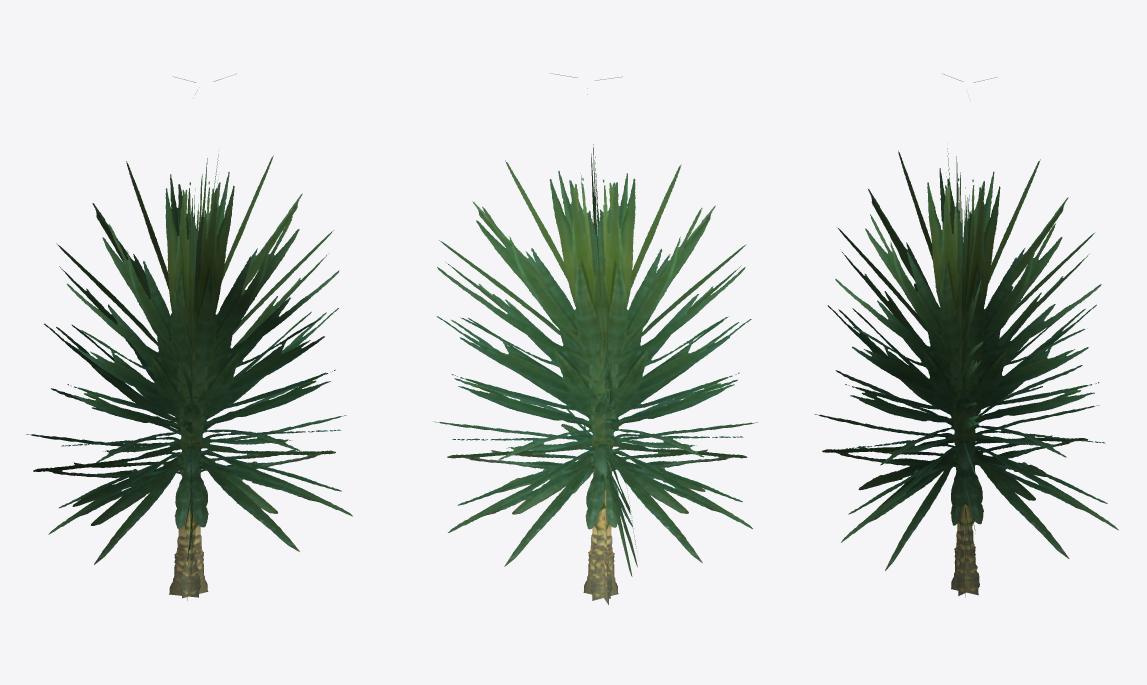
The model's file is obj__yuca.obj.
The picture shows the model from 3 angles, left to right: view 1: azimuth 30°, elevation 25°; view 2: azimuth 150°, elevation 25°; view 3: azimuth 270°, elevation 25°; orthographic projection.
Parts seen in each view (by area): view 1: yuca.tga; view 2: yuca.tga; view 3: yuca.tga.
Boxes of the visible parts, x1,y1,x2,y2 form: yuca.tga: (26,73,352,600); yuca.tga: (434,73,757,604); yuca.tga: (814,73,1118,597).
Size of the model in its own units: 111 by 156 by 88.65.
Materials: 1 (1 with a texture image).
